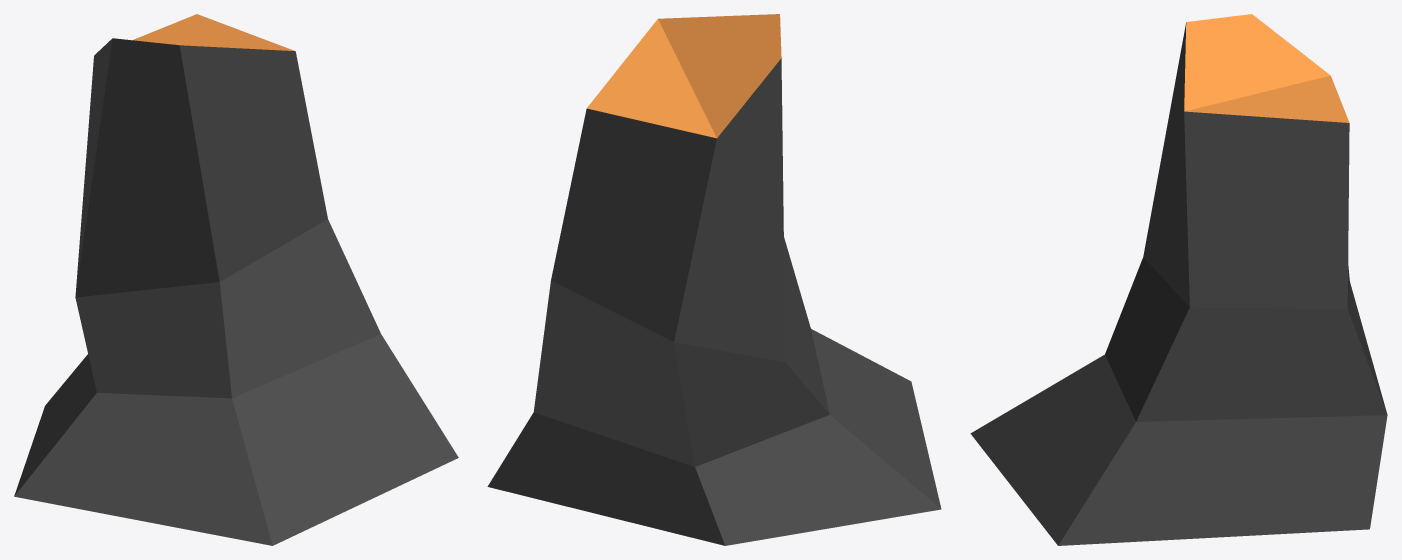
File: Trunk_3.FBX
3 renders of one model, left to right at view 1: azimuth 30°, elevation 25°; view 2: azimuth 150°, elevation 25°; view 3: azimuth 270°, elevation 25°, orthographic. The views are drawn at different scales.
Parts seen in each view (by area): view 1: tree_4; view 2: tree_4; view 3: tree_4.
Part boxes in pixels (x1,y1,x2,y2): tree_4: (14, 14, 458, 545); tree_4: (487, 14, 941, 545); tree_4: (970, 14, 1387, 545).
Size of the model in its own units: 0.7397 by 0.7917 by 0.7148.
Materials: 1 (1 with a texture image).
